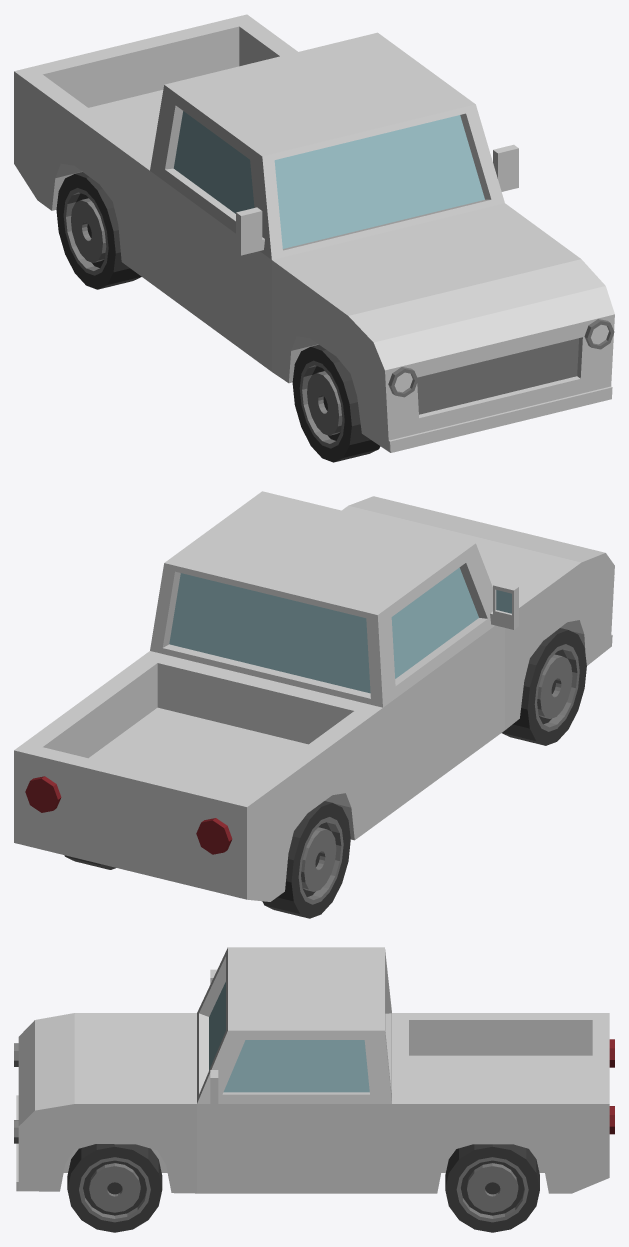
File: PickupTruck.fbx
The picture shows the model from 3 angles, top to bottom: view 1: azimuth 30°, elevation 25°; view 2: azimuth 150°, elevation 25°; view 3: azimuth 270°, elevation 25°; orthographic projection. The views are drawn at different scales.
Parts seen in each view (by area): view 1: MainColor, Main, FRightTire, RRightTire; view 2: MainColor, Main, FRightTire, RRightTire; view 3: MainColor, Main, FLeftTire, RLelftTire.
Boxes of the visible parts, x1=… form: MainColor: x1=14, y1=14, x2=614, y2=452; Main: x1=173, y1=111, x2=614, y2=414; FRightTire: x1=292, y1=344, x2=380, y2=462; RRightTire: x1=56, y1=172, x2=141, y2=289; MainColor: x1=14, y1=491, x2=614, y2=901; Main: x1=25, y1=567, x2=511, y2=854; FRightTire: x1=502, y1=628, x2=586, y2=745; RRightTire: x1=262, y1=801, x2=350, y2=918; MainColor: x1=16, y1=947, x2=609, y2=1193; Main: x1=14, y1=982, x2=614, y2=1143; FLeftTire: x1=67, y1=1144, x2=162, y2=1232; RLelftTire: x1=445, y1=1144, x2=539, y2=1232.
Bounding box in the file's own units: 143 × 122 × 335.
